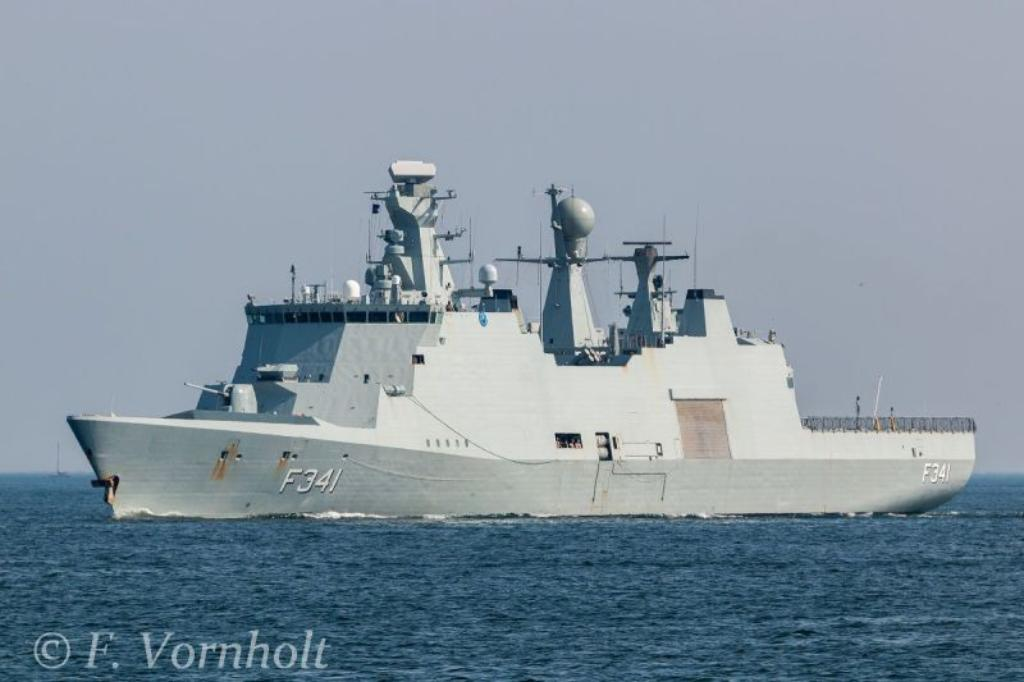Warship: (59, 143, 989, 531)
